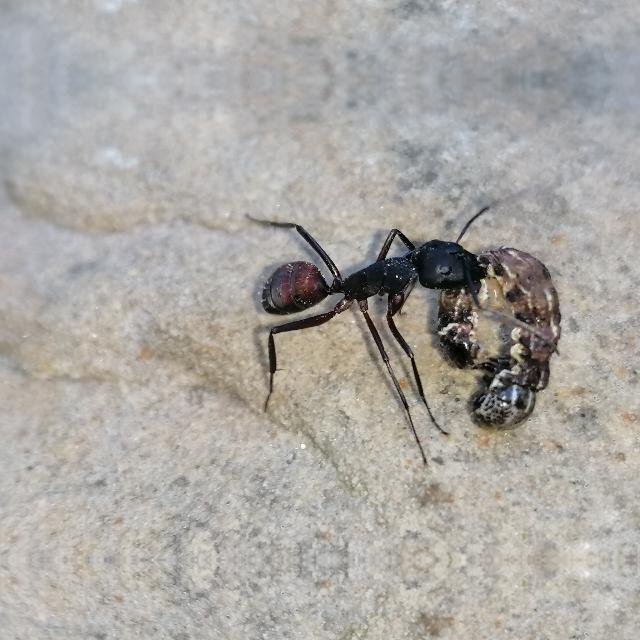Camponotus: (232, 212, 514, 352)
